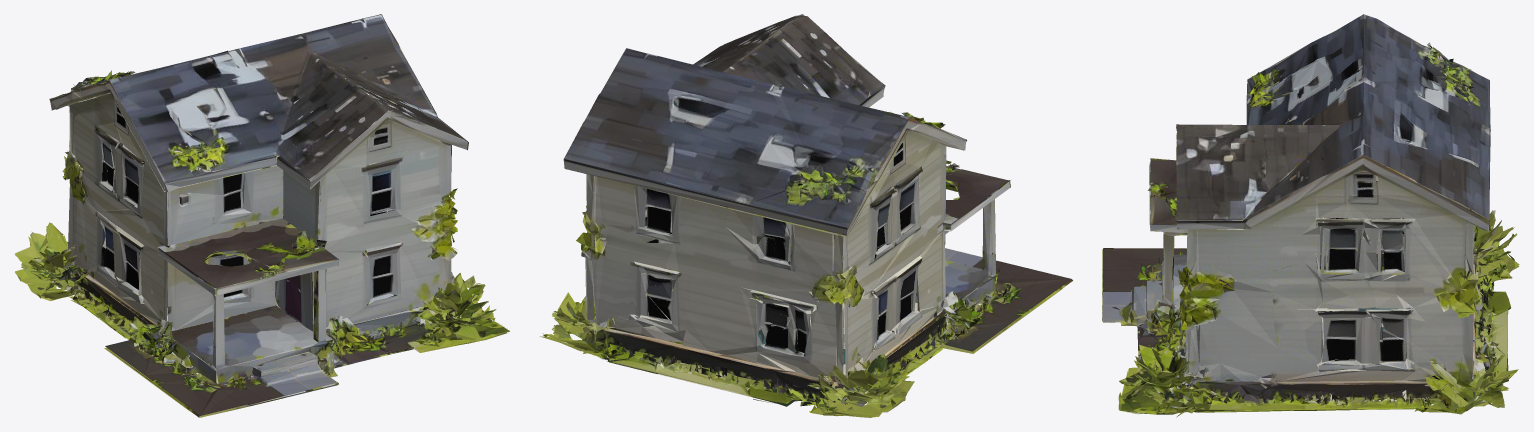
File: ruined_house.glb
The picture shows the model from 3 angles, left to right: view 1: azimuth 30°, elevation 25°; view 2: azimuth 150°, elevation 25°; view 3: azimuth 270°, elevation 25°; orthographic projection. The views are drawn at different scales.
Visible parts, largest first — view 1: obj.obj; view 2: obj.obj; view 3: obj.obj.
Boxes of the visible parts, bbox=[...] form: obj.obj: bbox=[14, 14, 509, 417]; obj.obj: bbox=[540, 14, 1072, 417]; obj.obj: bbox=[1102, 14, 1519, 417].
Bounding box in the file's own units: 10.36 × 7.5 × 10.98.
Materials: 1 (1 with a texture image).
